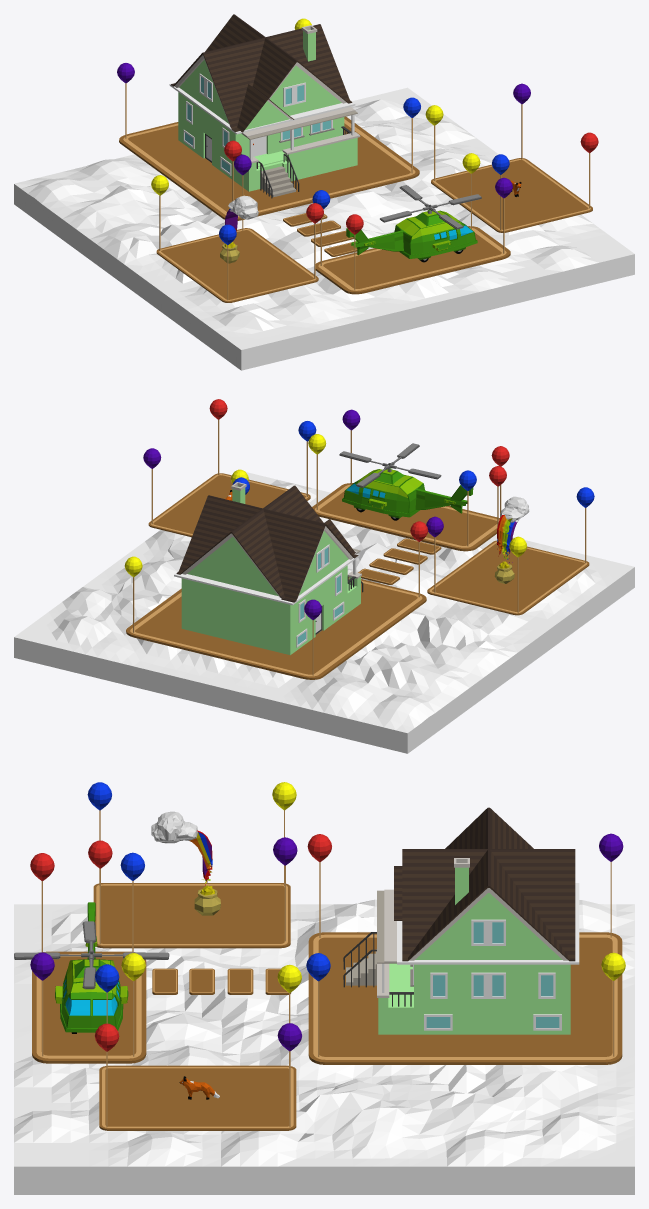
3 renders of one model, top to bottom at view 1: azimuth 30°, elevation 25°; view 2: azimuth 150°, elevation 25°; view 3: azimuth 270°, elevation 25°, orthographic. The views are drawn at different scales.
Parts seen in each view (by area): view 1: Cube.013, Cube.274, VEHICLES_HELICOPTER, OBJRANDOM_RAINBOW; view 2: Cube.013, Cube.274, VEHICLES_HELICOPTER, OBJRANDOM_RAINBOW; view 3: Cube.013, Cube.274, VEHICLES_HELICOPTER, OBJRANDOM_RAINBOW.
Part boxes in pixels (x1,y1,x2,y2): Cube.013: [14, 18, 634, 370]; Cube.274: [169, 14, 360, 198]; VEHICLES_HELICOPTER: [346, 185, 481, 262]; OBJRANDOM_RAINBOW: [220, 195, 258, 263]; Cube.013: [14, 399, 634, 753]; Cube.274: [174, 482, 363, 655]; VEHICLES_HELICOPTER: [339, 443, 473, 520]; OBJRANDOM_RAINBOW: [494, 496, 529, 583]; Cube.013: [14, 782, 634, 1194]; Cube.274: [343, 807, 579, 1034]; VEHICLES_HELICOPTER: [14, 902, 169, 1033]; OBJRANDOM_RAINBOW: [151, 811, 220, 915].
Bounding box in the file's own units: 4000 × 1687 × 4001.
Materials: 40 (1 with a texture image).
